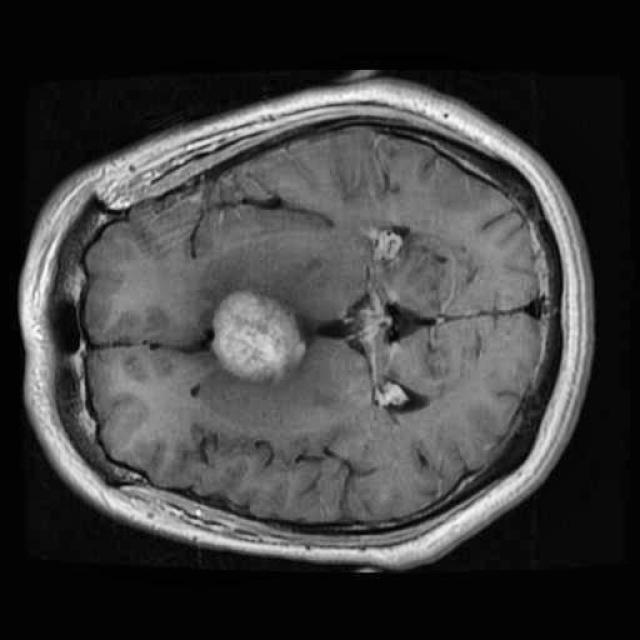Tumor: (206, 284, 320, 391)
